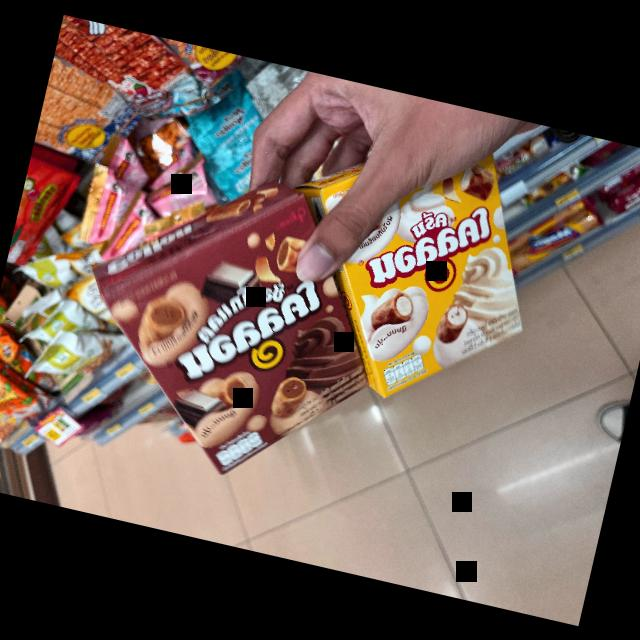cardboard_box: (41, 143, 404, 507), (242, 92, 570, 454)
